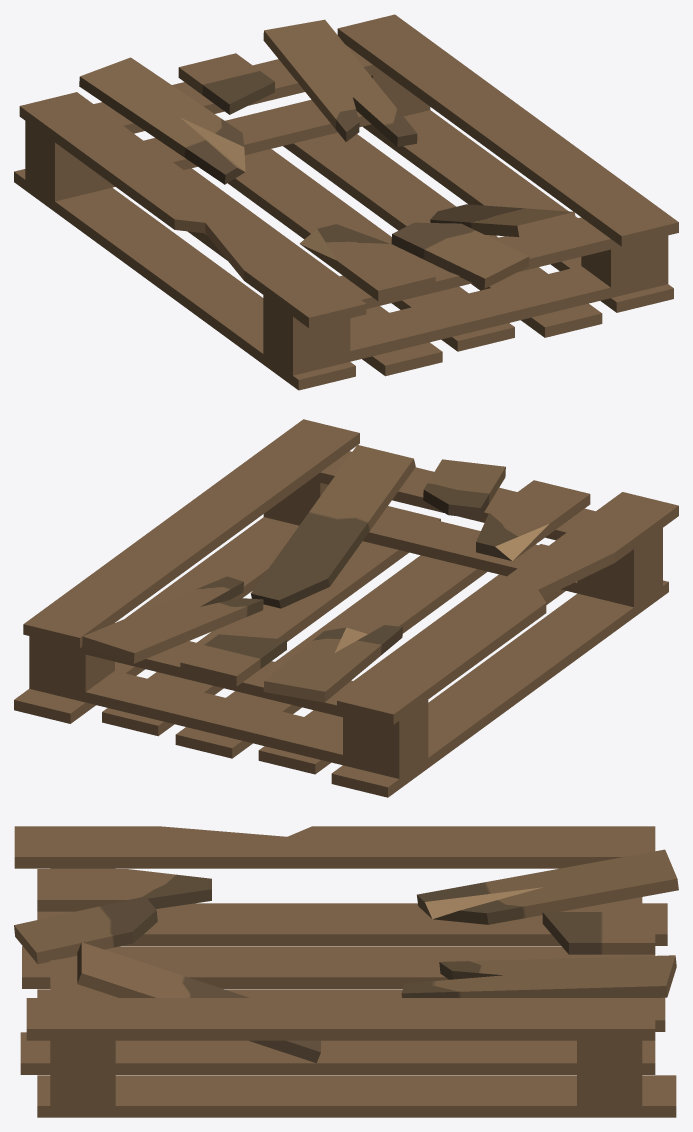
File: SM_Wooden_Pallet_C.gltf
3 renders of one model, top to bottom at view 1: azimuth 30°, elevation 25°; view 2: azimuth 150°, elevation 25°; view 3: azimuth 270°, elevation 25°, orthographic. The views are drawn at different scales.
Parts seen in each view (by area): view 1: SM_Wooden_Pallet_C; view 2: SM_Wooden_Pallet_C; view 3: SM_Wooden_Pallet_C.
Part boxes in pixels (x1,y1,x2,y2): SM_Wooden_Pallet_C: (14, 14, 678, 390); SM_Wooden_Pallet_C: (14, 419, 678, 797); SM_Wooden_Pallet_C: (14, 826, 678, 1117).
Bounding box in the file's own units: 1.12 × 0.2617 × 1.55.
1 material, 1 textured.
